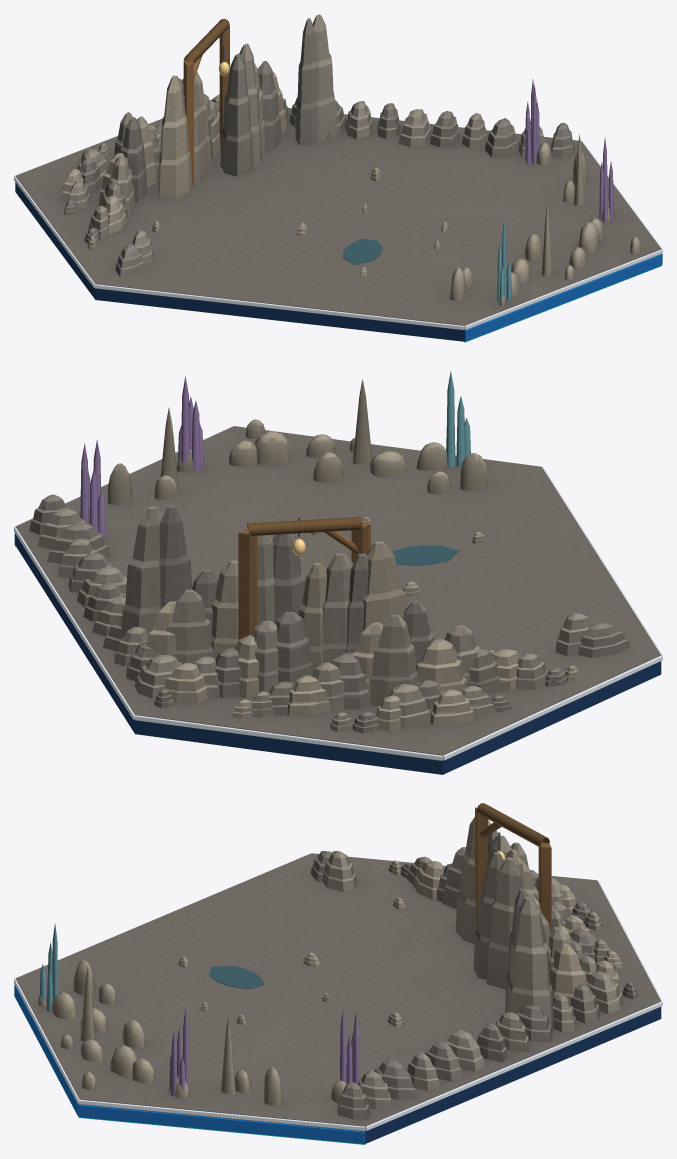
File: field_cm40_01.glb
3 renders of one model, top to bottom at view 1: azimuth 30°, elevation 25°; view 2: azimuth 150°, elevation 25°; view 3: azimuth 270°, elevation 25°, orthographic. The views are drawn at different scales.
Parts seen in each view (by area): view 1: field_cm40_01-refined; view 2: field_cm40_01-refined; view 3: field_cm40_01-refined.
Part boxes in pixels (x1,y1,x2,y2): field_cm40_01-refined: (14, 14, 662, 342); field_cm40_01-refined: (14, 371, 662, 774); field_cm40_01-refined: (14, 803, 662, 1144).
Bounding box in the file's own units: 7.87 × 2.14 × 7.87.
Materials: 1 (1 with a texture image).
